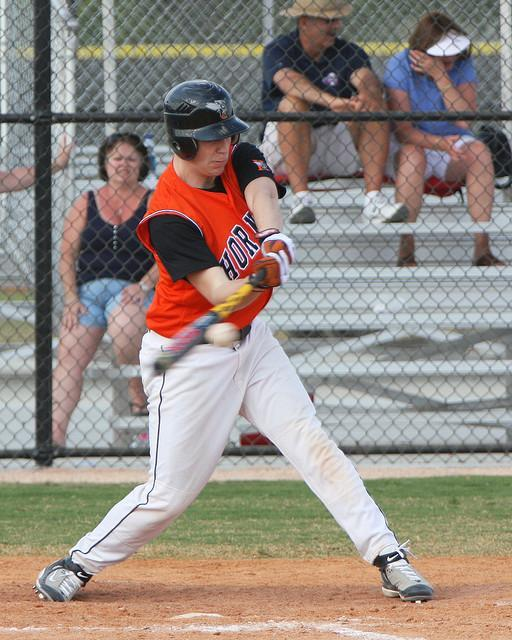baseball bat: (152, 269, 266, 376)
sports ball: (210, 324, 240, 350)
